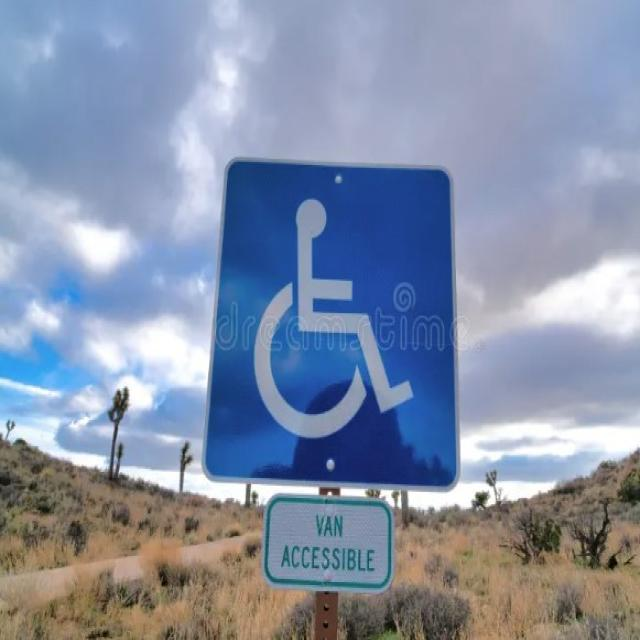symbol_of_access: (202, 154, 460, 492)
